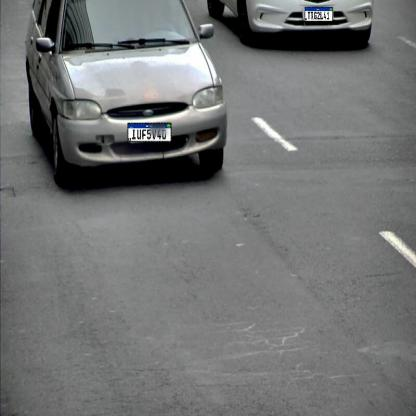PlacaM: (128, 123, 172, 142), (305, 7, 333, 21)
